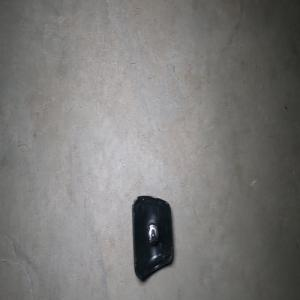LuggagePart: (131, 194, 174, 282)
